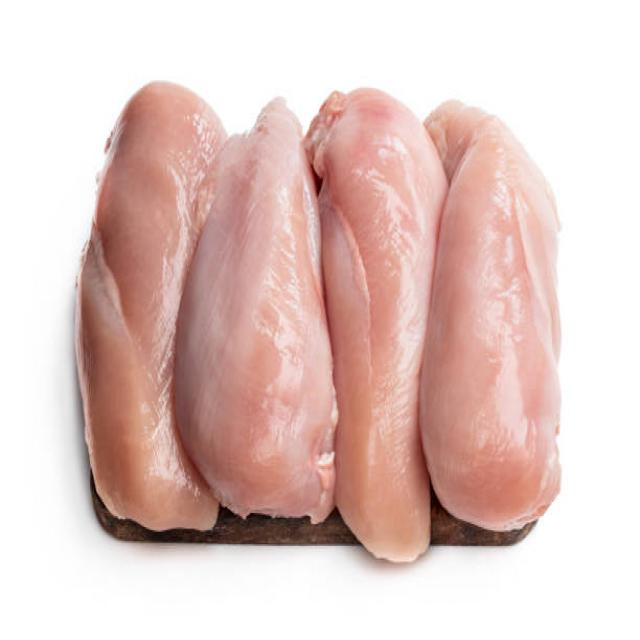Chicken Breast: (432, 91, 592, 558), (61, 56, 193, 552), (312, 73, 423, 546), (204, 100, 313, 543)
